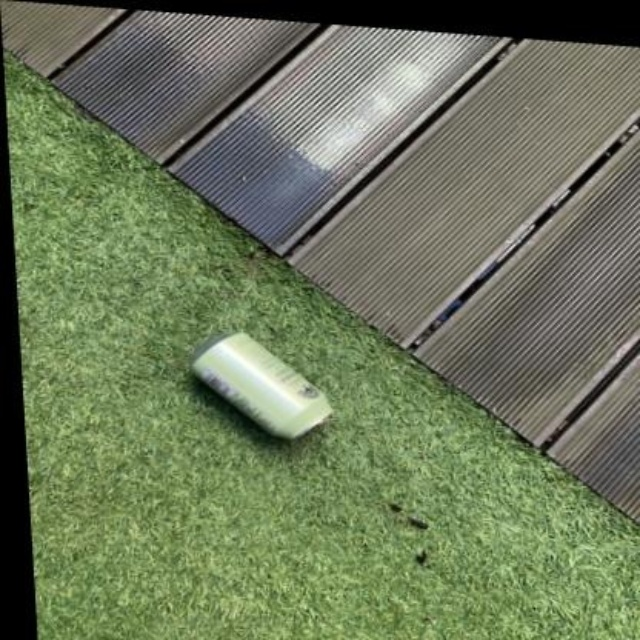trash: (192, 332, 331, 437)
